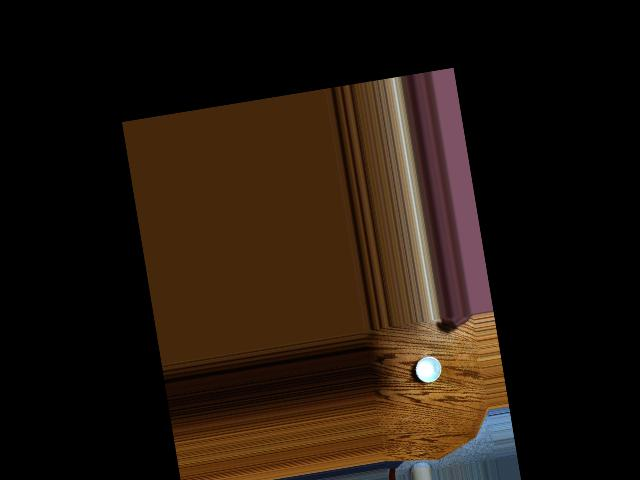cotage: (414, 350, 446, 384)
